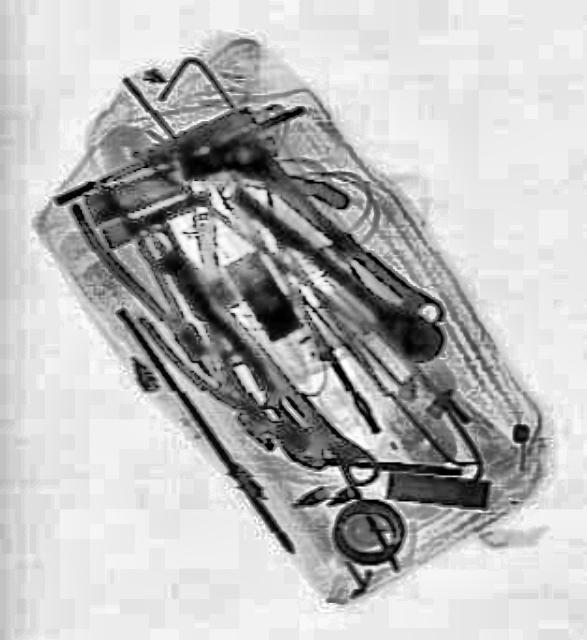Pliers: (111, 250, 349, 492), (60, 176, 224, 374)
Wrench: (127, 220, 383, 490), (216, 130, 448, 332)
